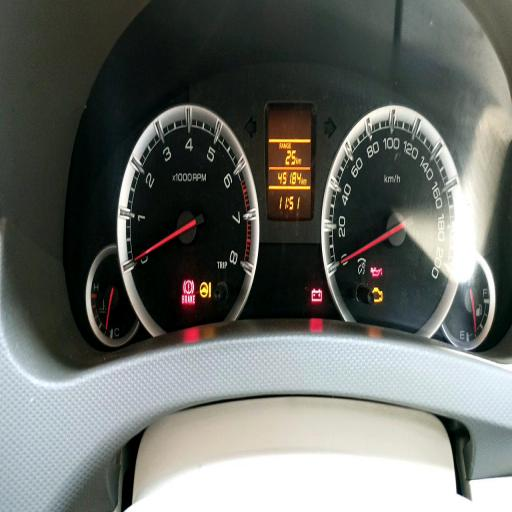brake_system_fault: (183, 280, 194, 294)
check_engine: (372, 286, 383, 304)
oil: (370, 266, 383, 278)
tachometer: (124, 116, 268, 352)
vehicle_charging: (312, 288, 322, 303)
